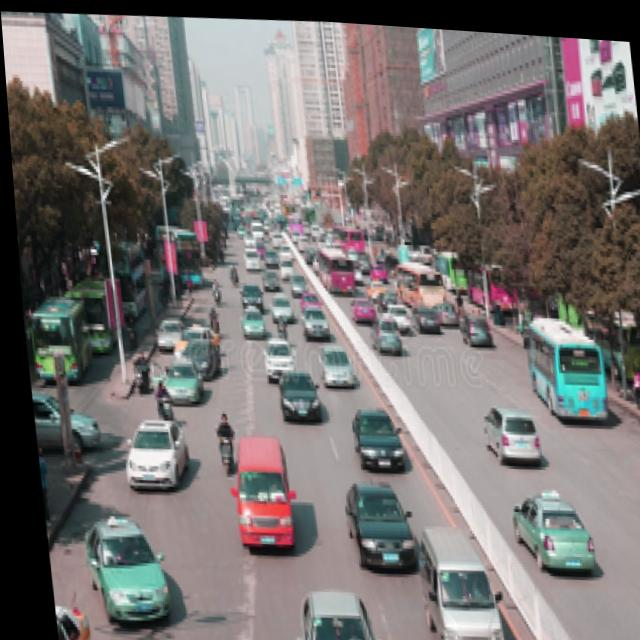license_plate: (373, 544, 392, 560)
